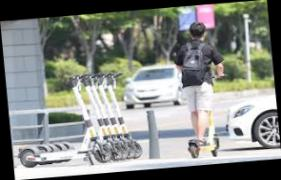nonhelmet: (167, 19, 233, 161)
